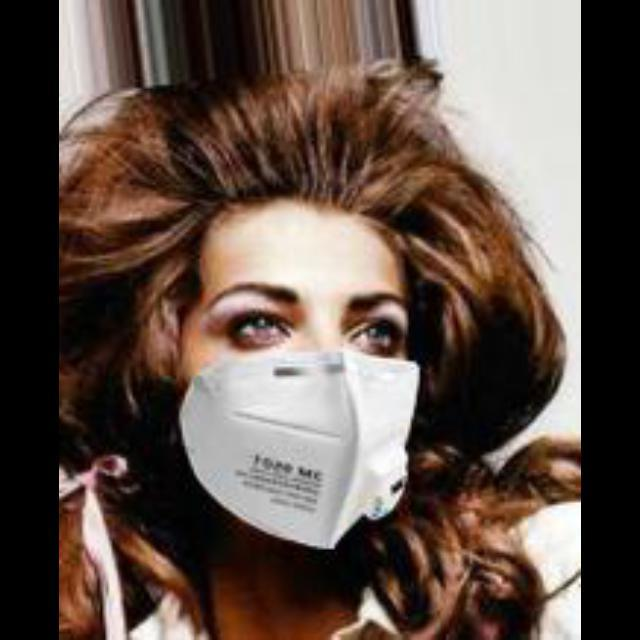suspicion: (199, 167, 439, 566)
